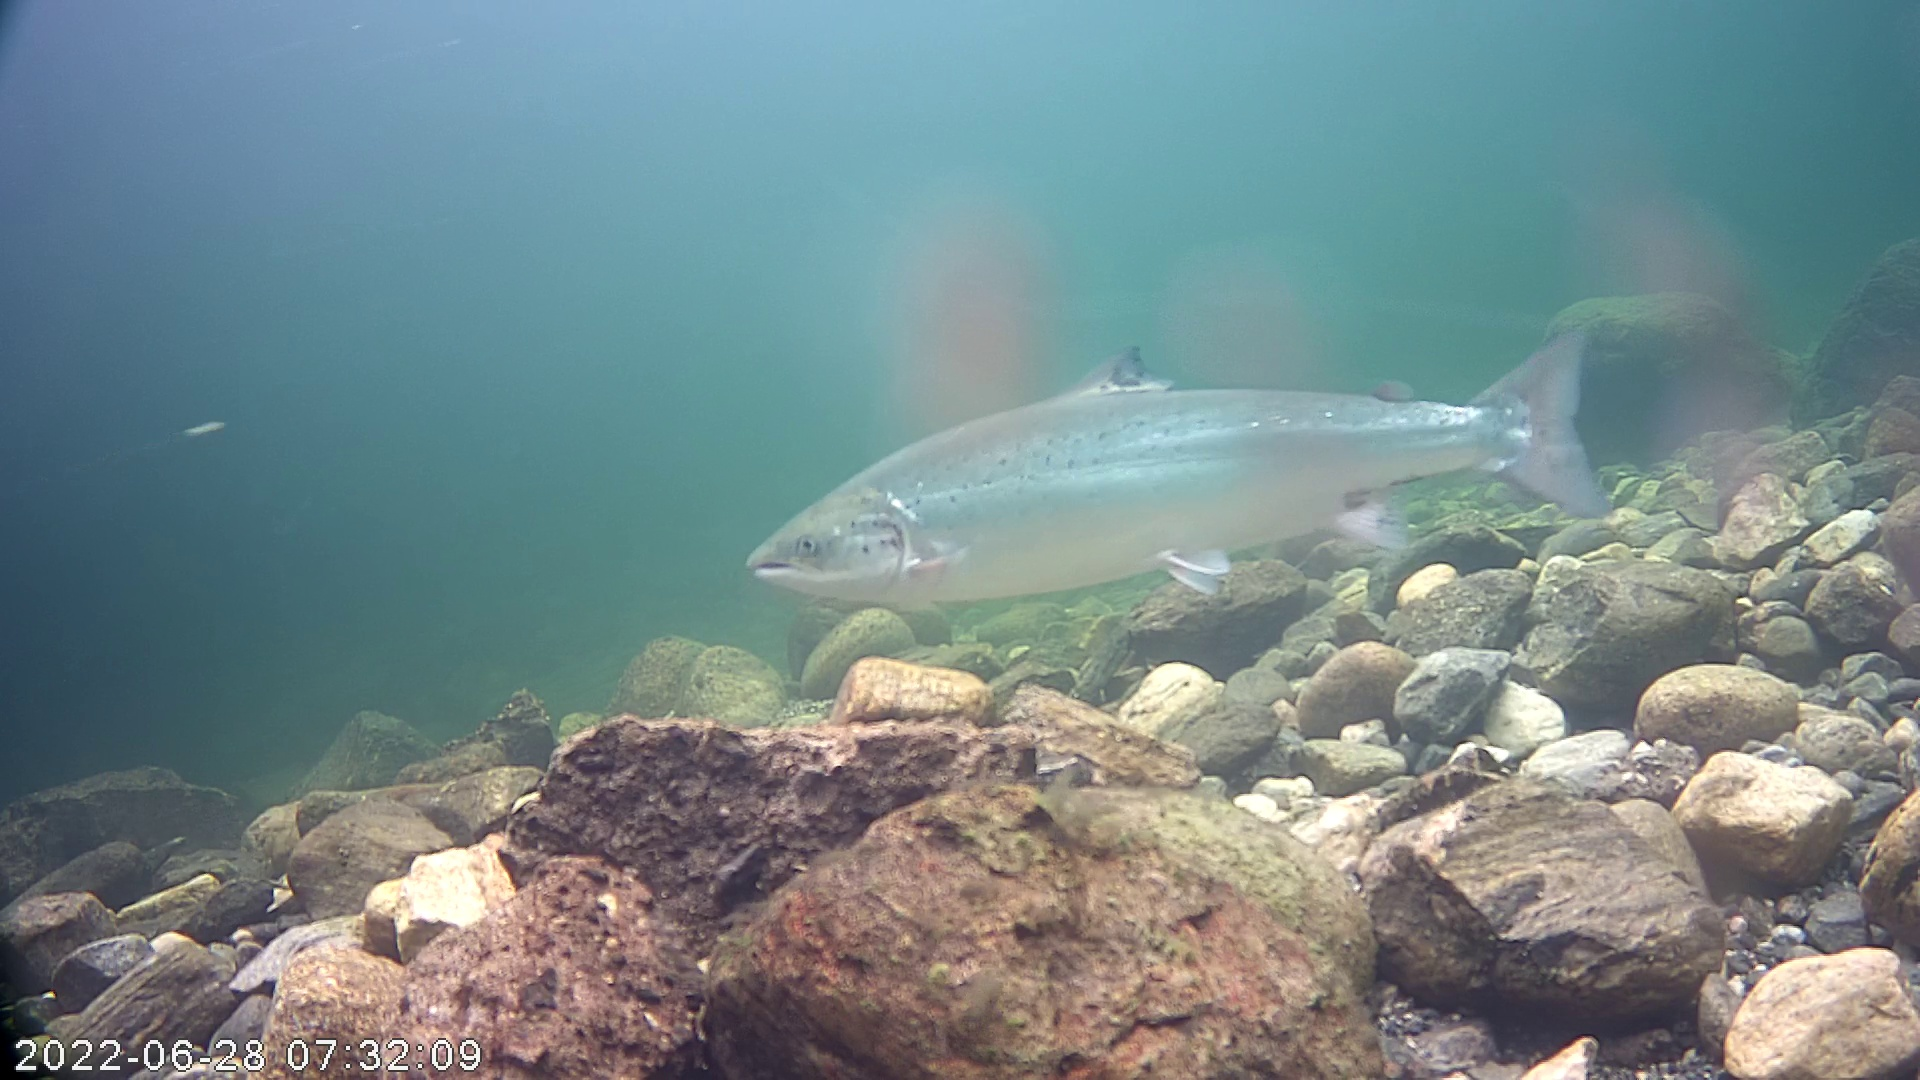salmon: (749, 232, 1633, 662)
